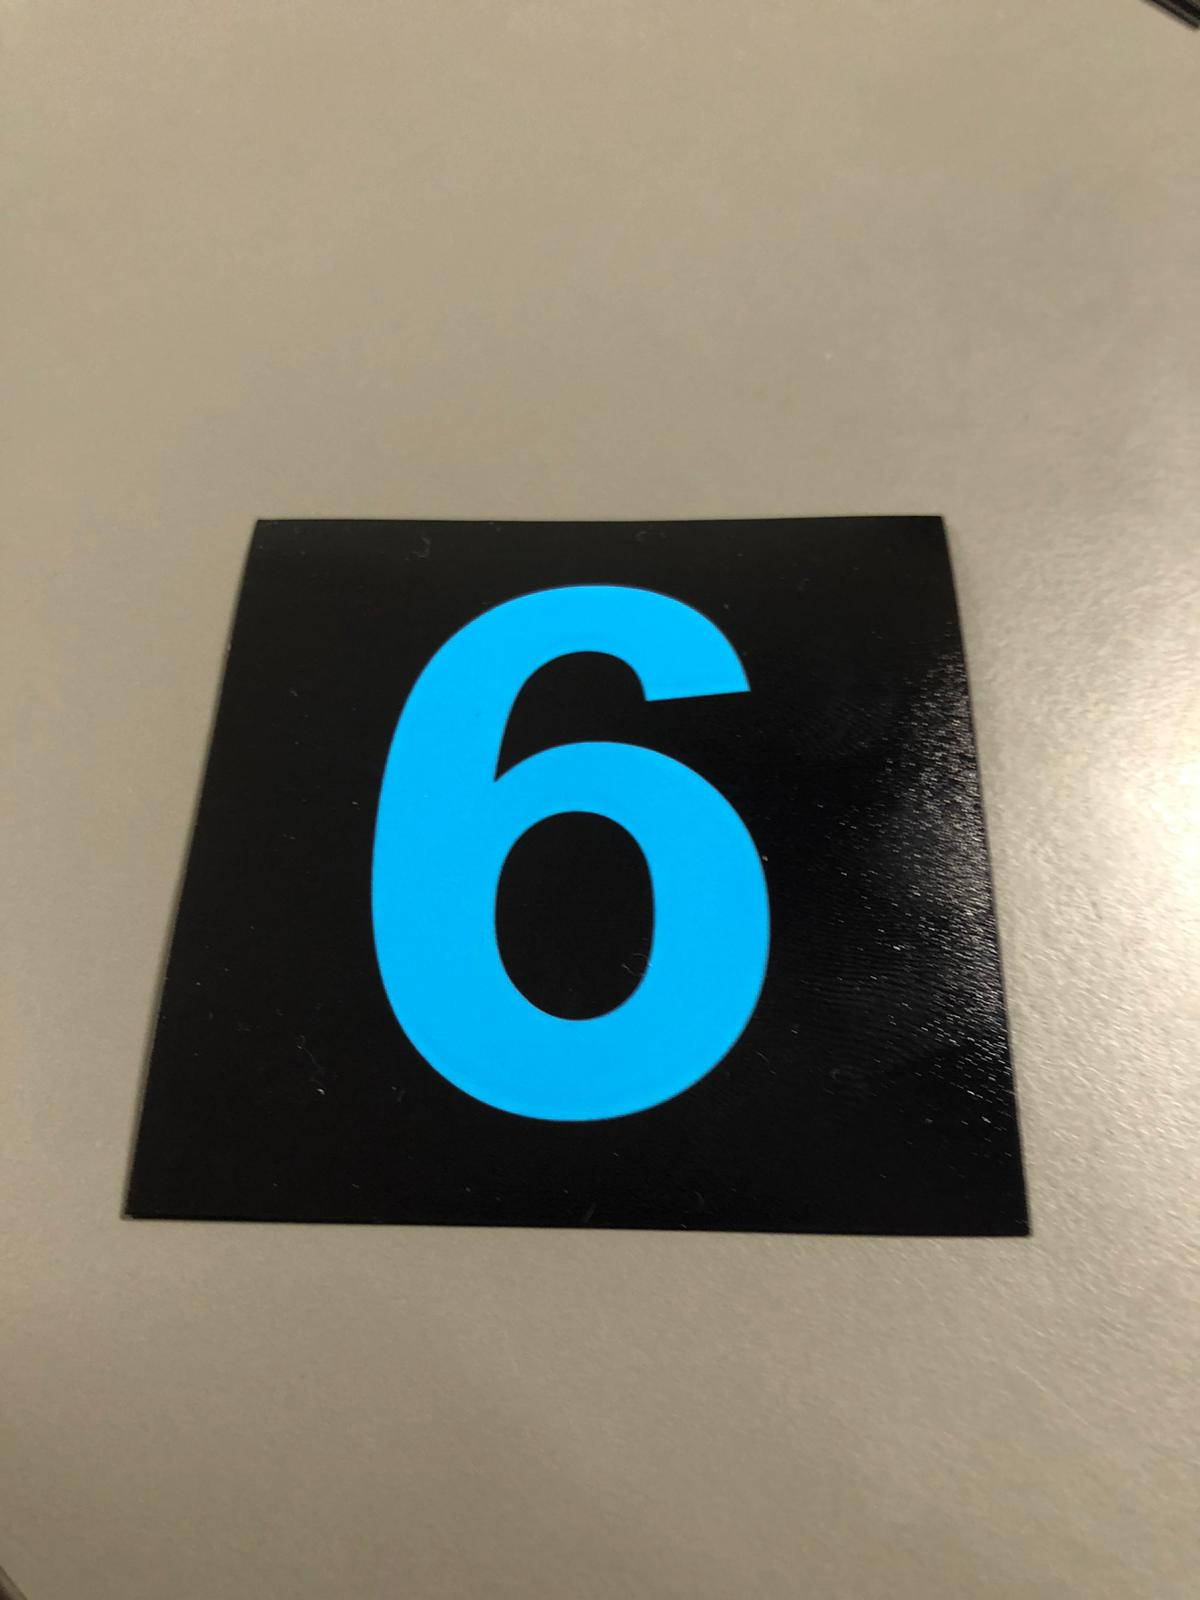Number 6: (241, 532, 952, 1225)
